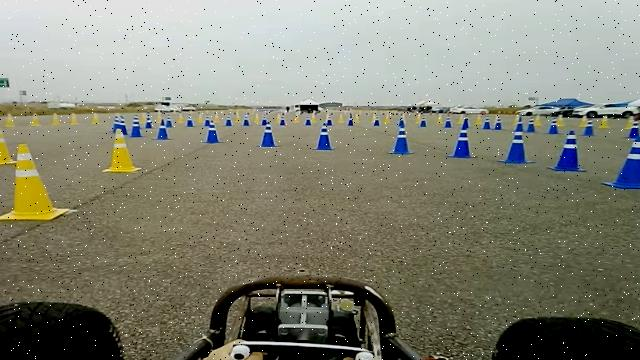blue cone: (602, 136, 640, 188), (546, 130, 588, 172), (500, 120, 536, 164), (446, 121, 479, 158), (388, 120, 415, 154), (313, 120, 335, 150), (257, 125, 281, 147)
yellow cone: (0, 143, 70, 221), (102, 128, 142, 173), (0, 124, 18, 165)
